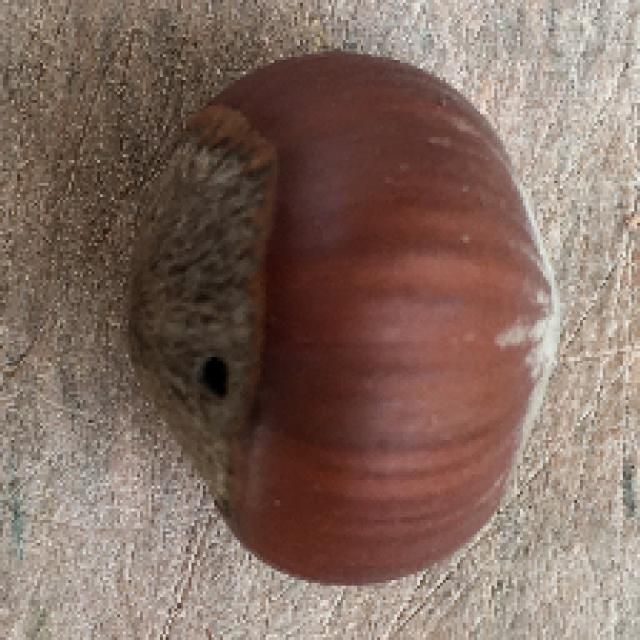damagedHazelnut: (121, 55, 560, 589)
